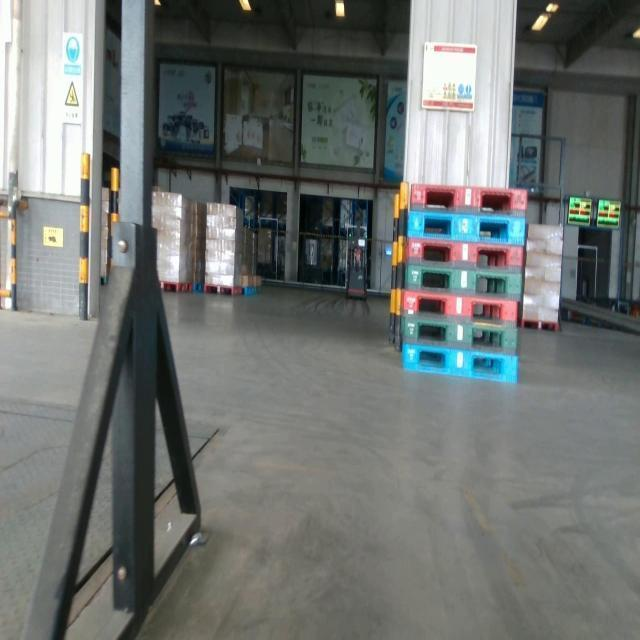forklift: (346, 213, 369, 300)
